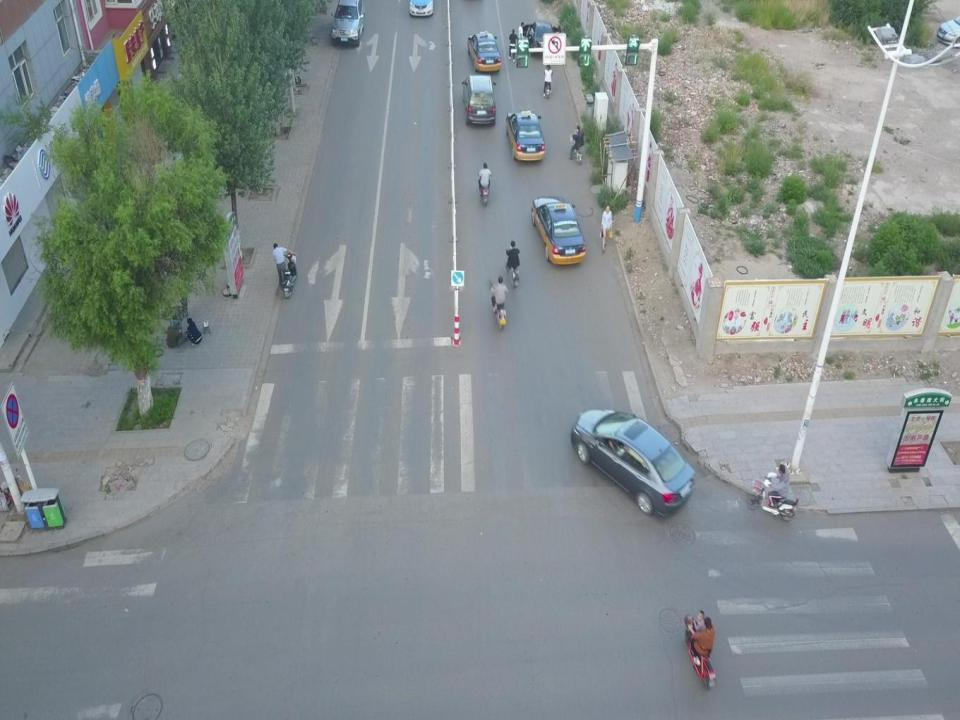car: (571, 409, 695, 517), (532, 197, 585, 265), (506, 111, 544, 160), (462, 75, 496, 125), (330, 0, 365, 47), (520, 21, 562, 57), (467, 31, 500, 72)
